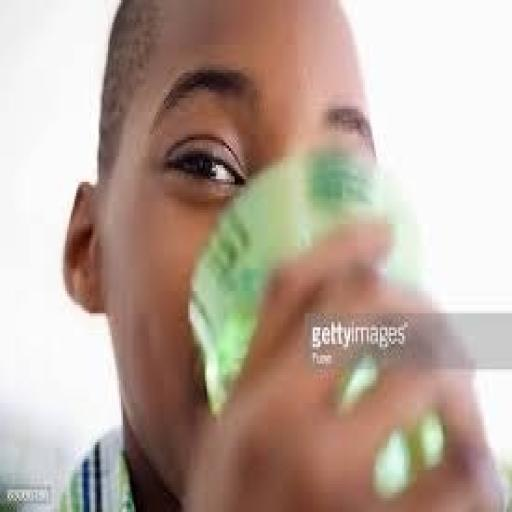drinking: (184, 142, 402, 420)
